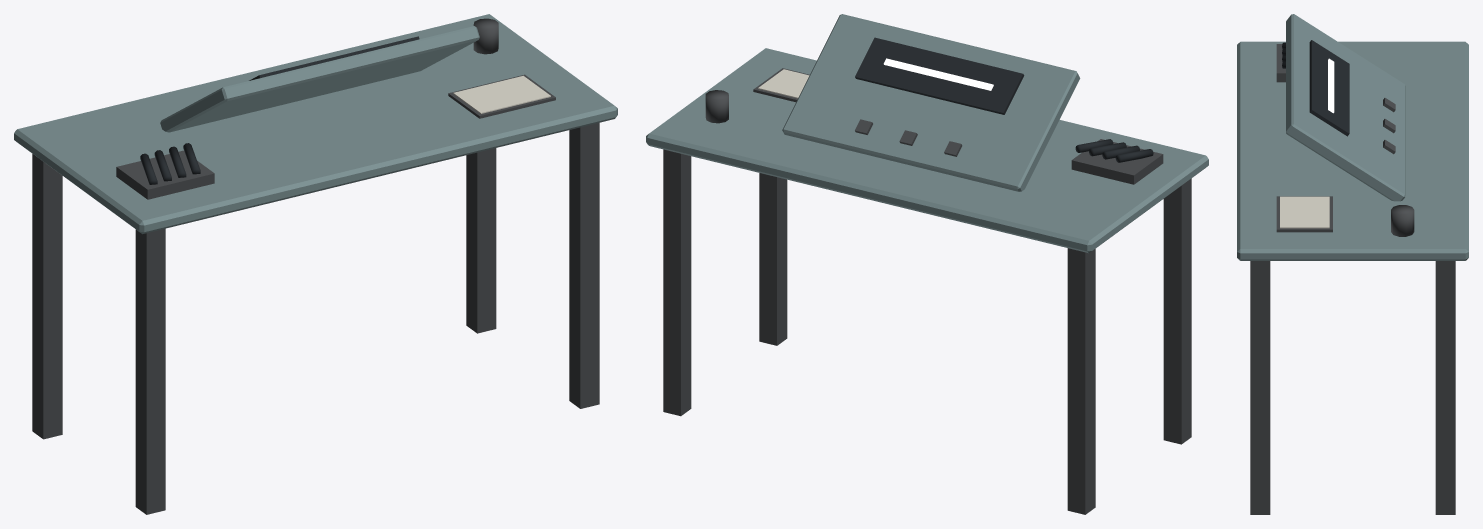
The model's file is lab_console.glb.
3 renders of one model, left to right at view 1: azimuth 30°, elevation 25°; view 2: azimuth 150°, elevation 25°; view 3: azimuth 270°, elevation 25°, orthographic. The views are drawn at different scales.
Parts seen in each view (by area): view 1: lab_console; view 2: lab_console; view 3: lab_console.
Boxes of the visible parts, bbox=[...] form: lab_console: bbox=[14, 14, 617, 514]; lab_console: bbox=[646, 14, 1208, 514]; lab_console: bbox=[1237, 14, 1468, 514].
Size of the model in its own units: 1.5 by 1.15 by 0.7.
